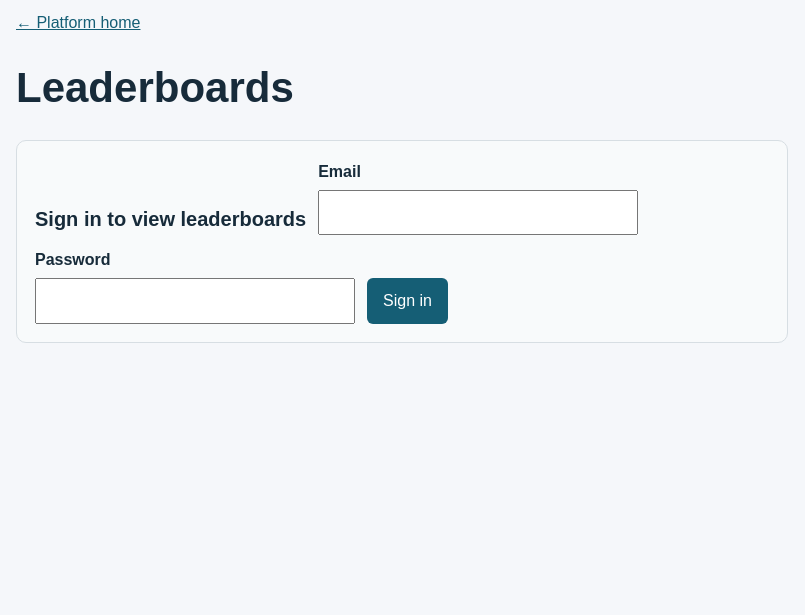
Test: student switches quiz and topic rankings without reloading the page
The width and height of the screenshot is (805, 615).
Step 1. Type "student@example.com" into the field labelled "Email" → x=478, y=212, box [318,190,638,235]
Step 2. Type "Study1234" into the password field labelled "Password" → x=195, y=301, box [35,278,355,324]
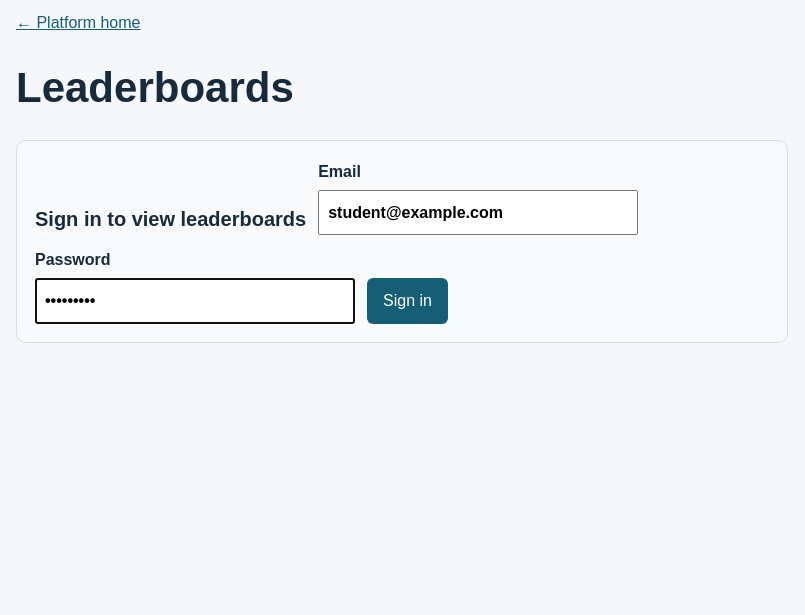
Step 3. Click the button "Sign in" → x=407, y=301, box [367,278,448,324]
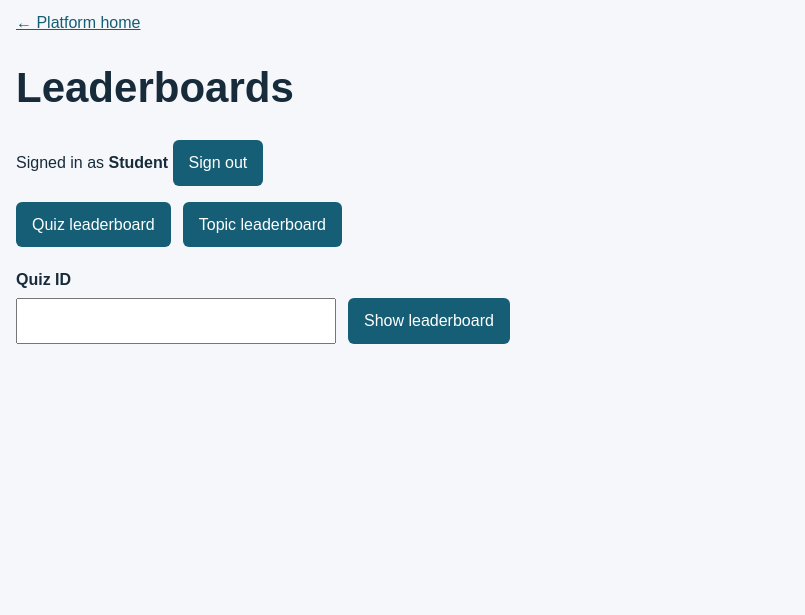
Step 4. Type "aaaaaaaaaaaaaaaaaaaaaaaa" into the field labelled "Quiz ID" → x=176, y=321, box [16,298,336,344]
Step 5. Click the button "Show leaderboard" → x=429, y=321, box [348,298,510,344]
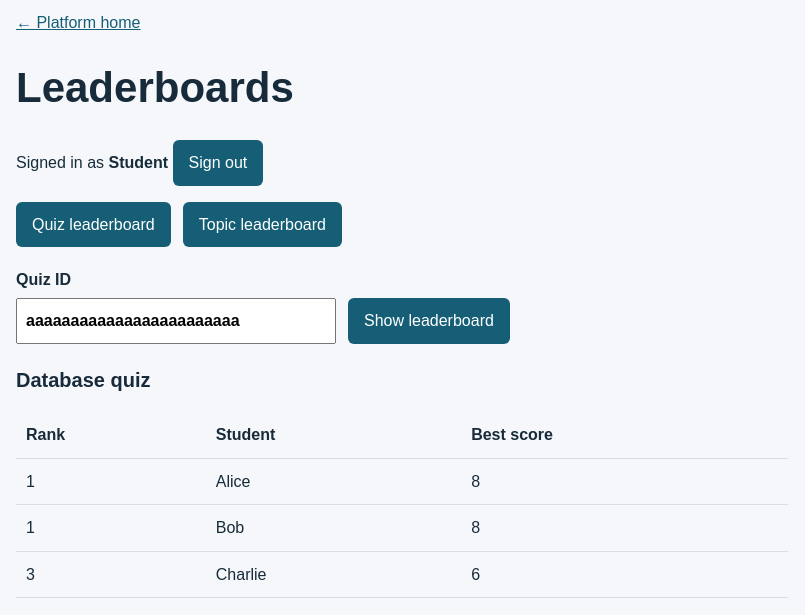
Step 6. Click the button "Topic leaderboard" → x=262, y=224, box [183,202,342,247]
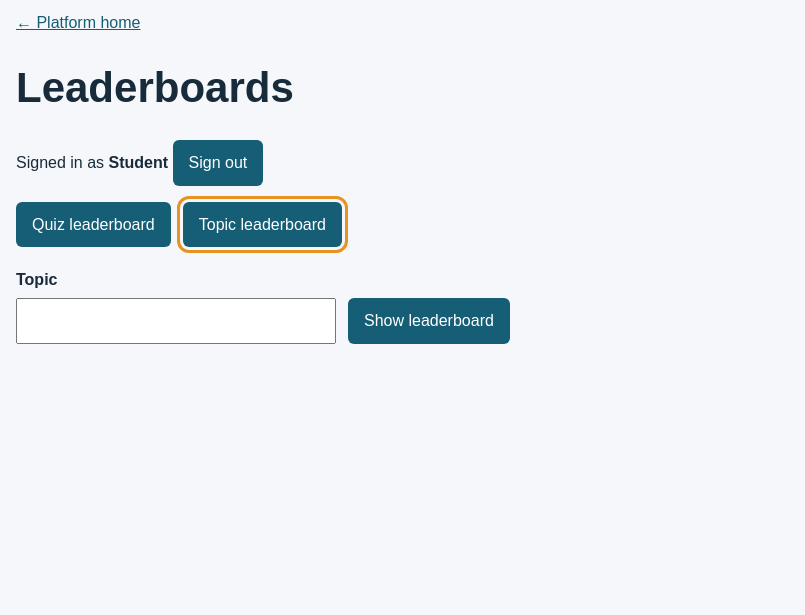
Step 7. Type "dbms" into the field labelled "Topic" → x=176, y=321, box [16,298,336,344]
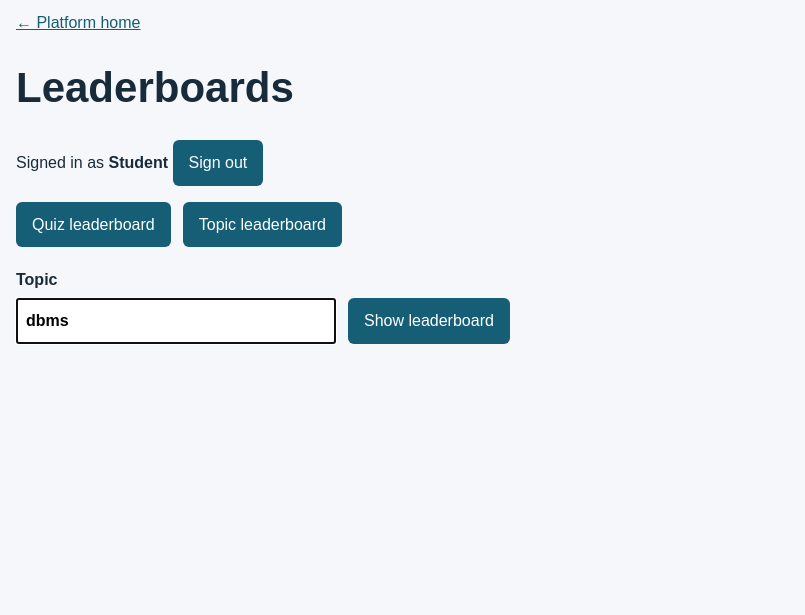
Step 8. Click the button "Show leaderboard" → x=429, y=321, box [348,298,510,344]
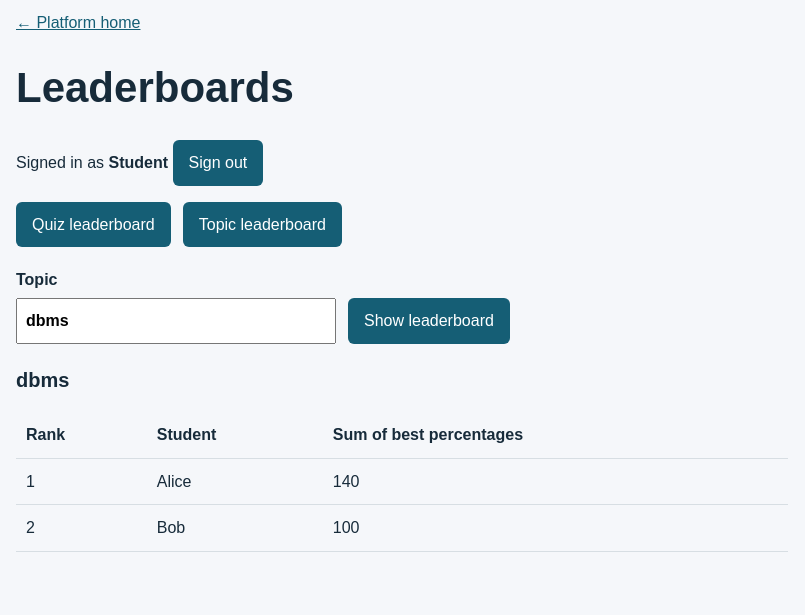
Result: the text "140" is shown at [323,458,788,505]
